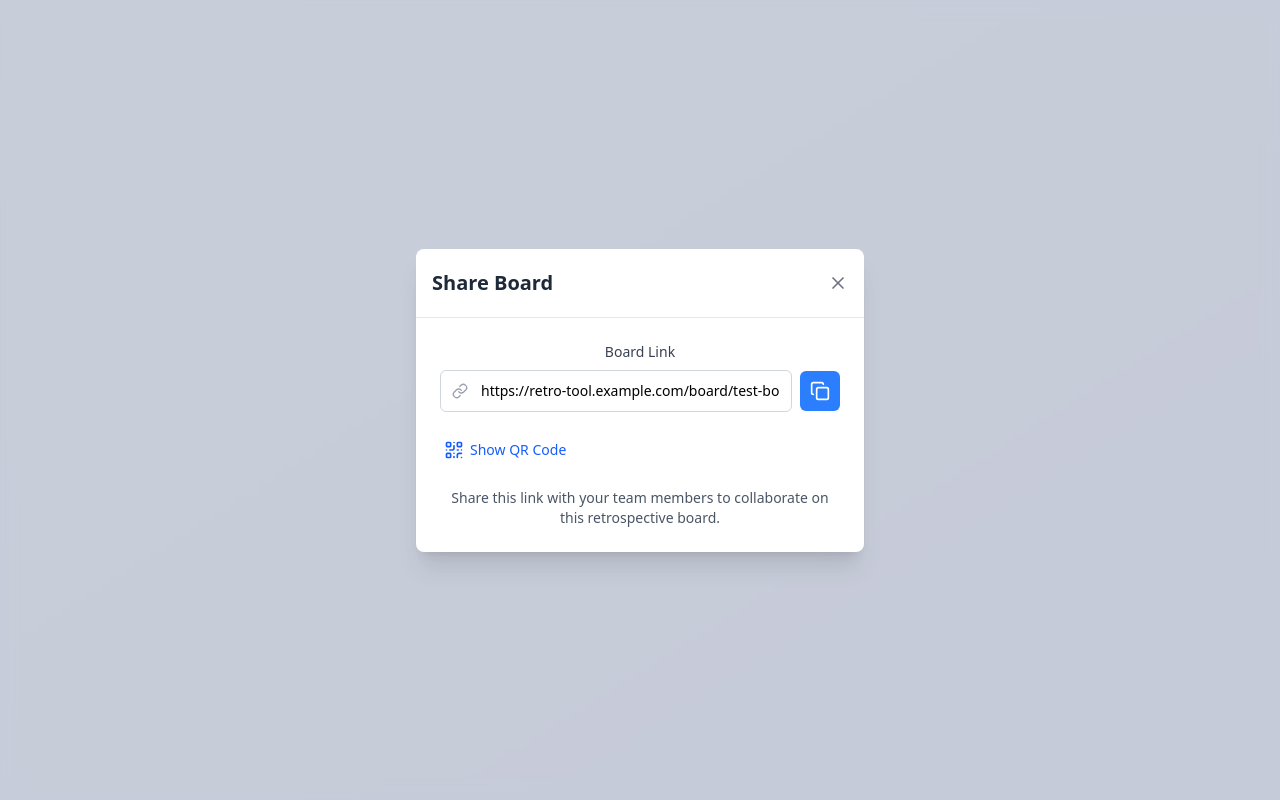
Test: ShareModal › copies to clipboard when button is clicked
The image size is (1280, 800).
Click the button named "Copy to clipboard": (820, 390) [800, 370, 840, 410]
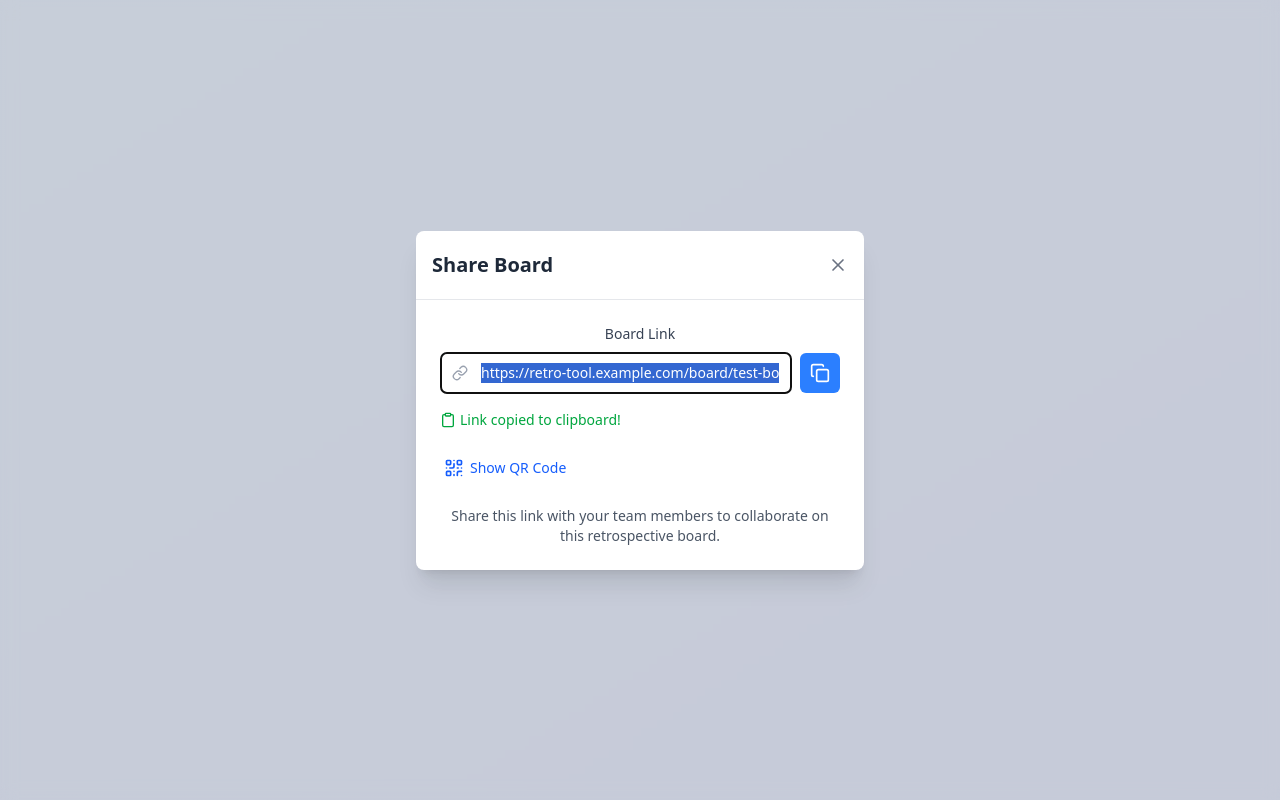
Expected: the text "Link copied to clipboard!" is shown, [460, 410, 621, 430]
